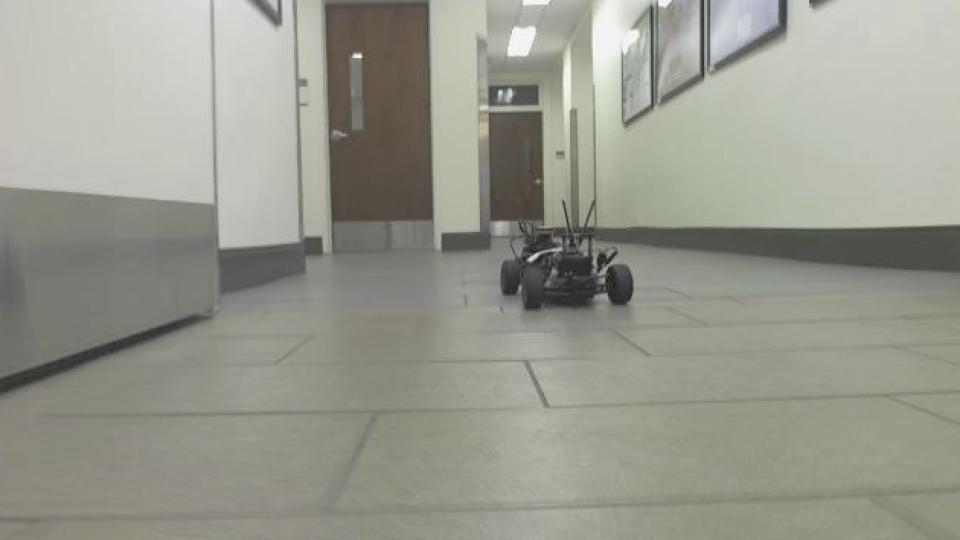car: (497, 195, 638, 313)
